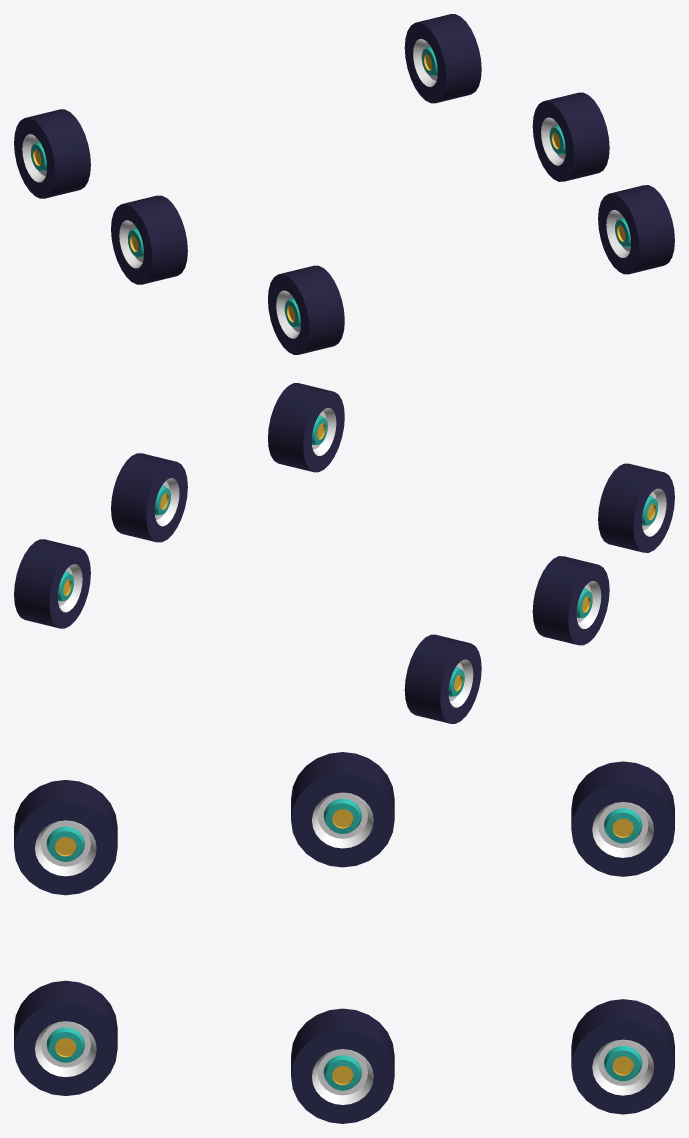
Rendered from Wheels Standard.fbx.
3 renders of one model, top to bottom at view 1: azimuth 30°, elevation 25°; view 2: azimuth 150°, elevation 25°; view 3: azimuth 270°, elevation 25°, orthographic. The views are drawn at different scales.
Visible parts, largest first — view 1: LM, RR, RM, RF, LF, LR; view 2: RM, LR, LM, LF, RF, RR; view 3: LR, RR, LF, RF, LM, RM.
Part boxes in pixels (bbox=[...]): LM: bbox=[532, 92, 609, 181]; RR: bbox=[14, 109, 90, 198]; RM: bbox=[111, 195, 187, 284]; RF: bbox=[268, 265, 344, 354]; LF: bbox=[598, 185, 674, 274]; LR: bbox=[404, 14, 481, 103]; RM: bbox=[532, 556, 609, 645]; LR: bbox=[14, 539, 90, 628]; LM: bbox=[111, 453, 187, 542]; LF: bbox=[268, 383, 344, 472]; RF: bbox=[598, 463, 674, 552]; RR: bbox=[404, 634, 481, 723]; LR: bbox=[571, 999, 674, 1114]; RR: bbox=[571, 761, 674, 876]; LF: bbox=[14, 980, 117, 1095]; RF: bbox=[14, 780, 117, 895]; LM: bbox=[291, 1008, 394, 1123]; RM: bbox=[291, 752, 394, 867].
Size of the model in its own units: 23.13 by 3.64 by 23.24.
